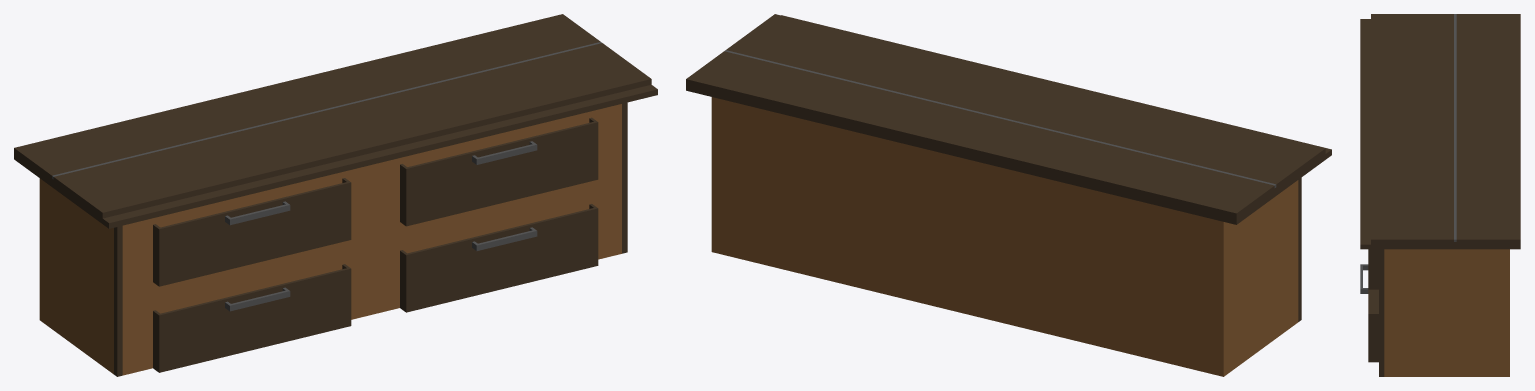
Rendered from Pista1.obj.
The picture shows the model from 3 angles, left to right: view 1: azimuth 30°, elevation 25°; view 2: azimuth 150°, elevation 25°; view 3: azimuth 270°, elevation 25°; orthographic projection. The views are drawn at different scales.
Size of the model in its own units: 20 by 6 by 6.
1 material, 1 textured.
